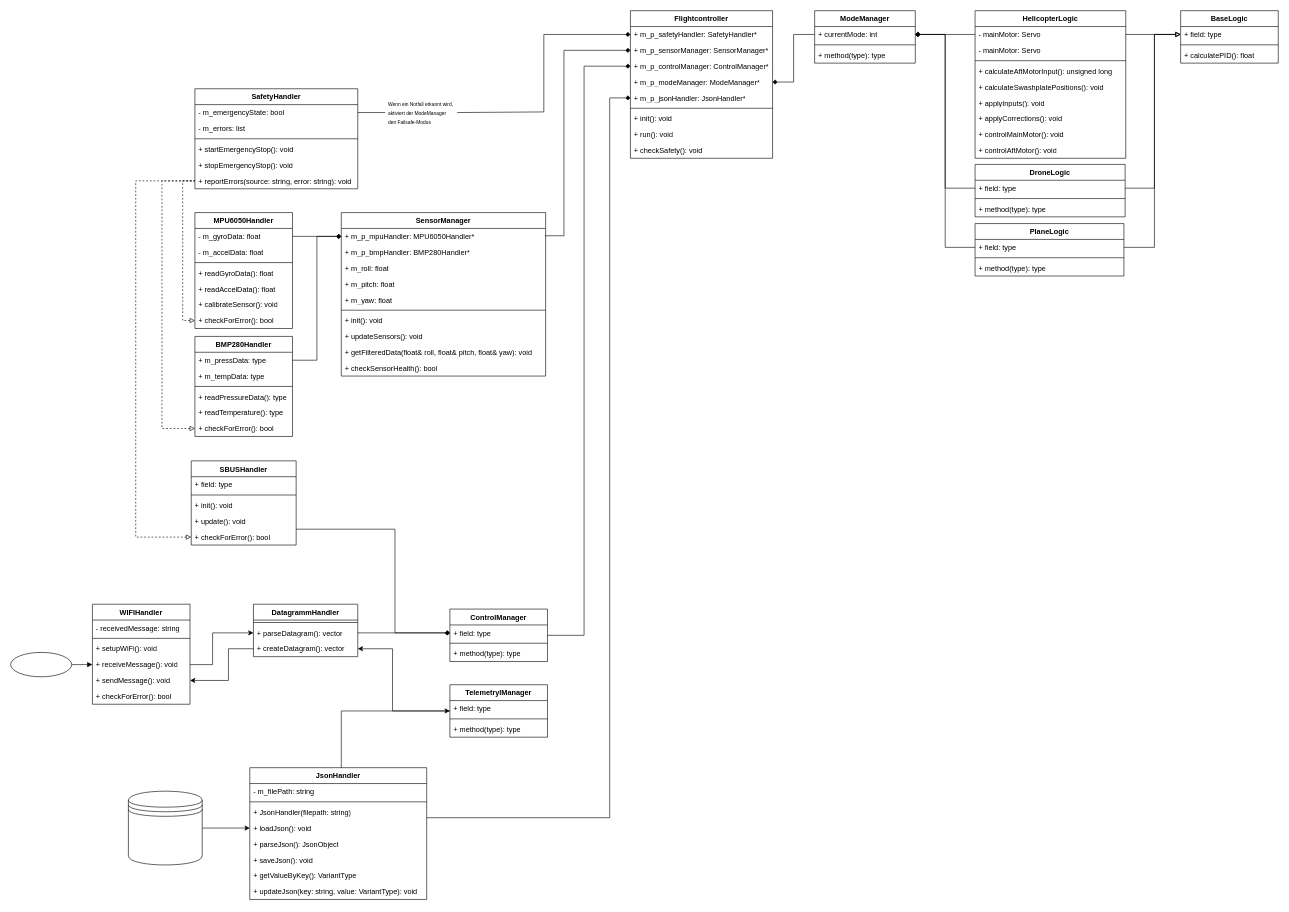
The diagram is 1289 pixels wide and 912 high, and some of its shapes have lost their labels. Each missing label, with the centre of its shape:
config: the point at 165,828
UDP Message: the point at 41,664
